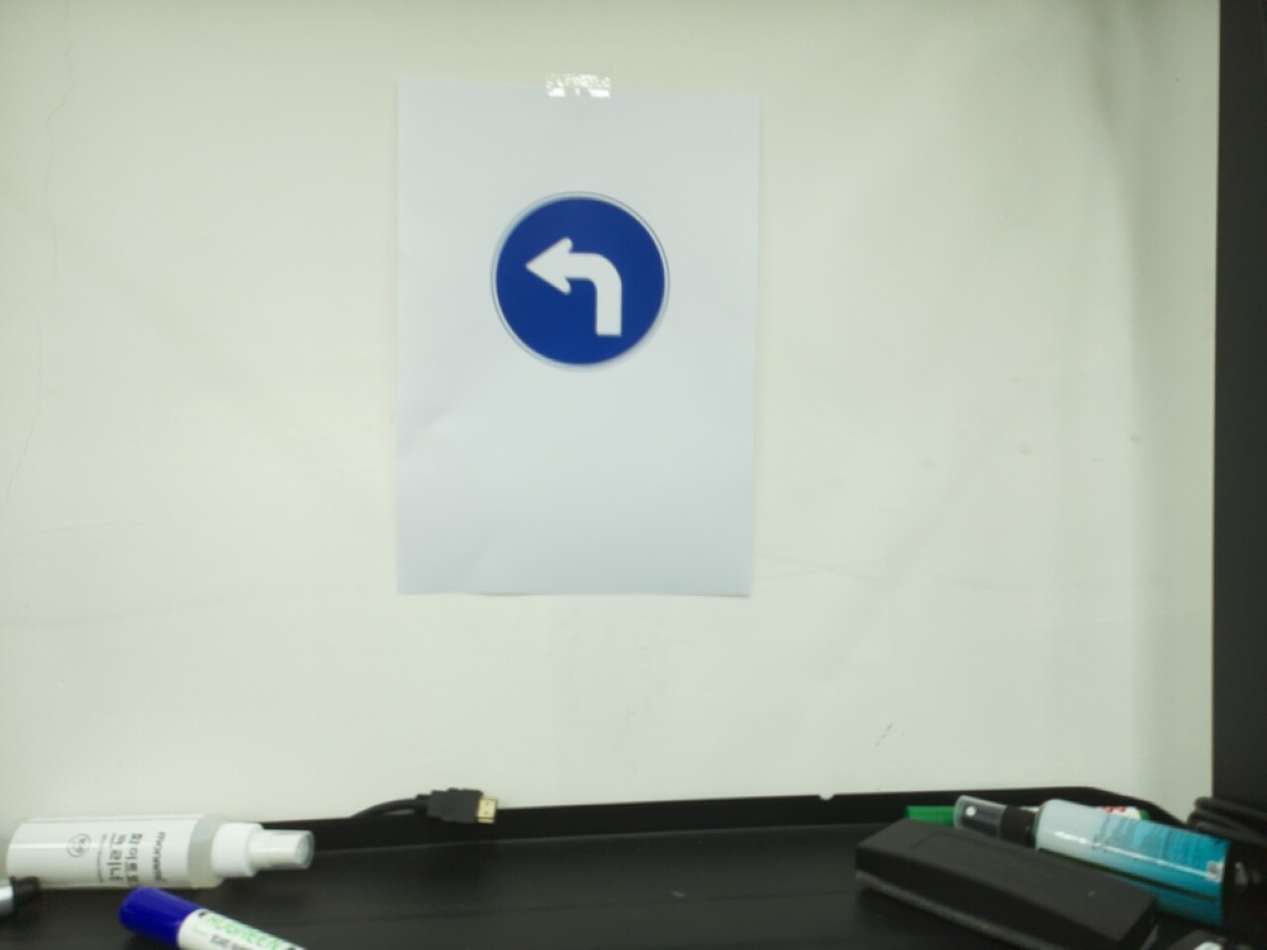left_turn: (489, 190, 672, 372)
